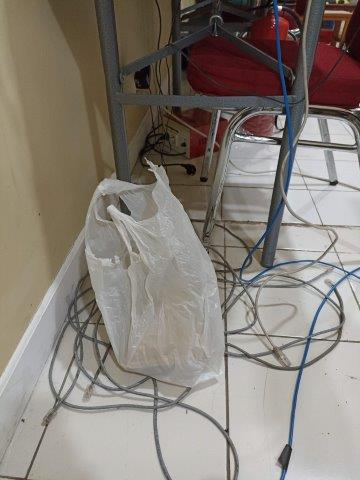plastik: (85, 160, 224, 384)
